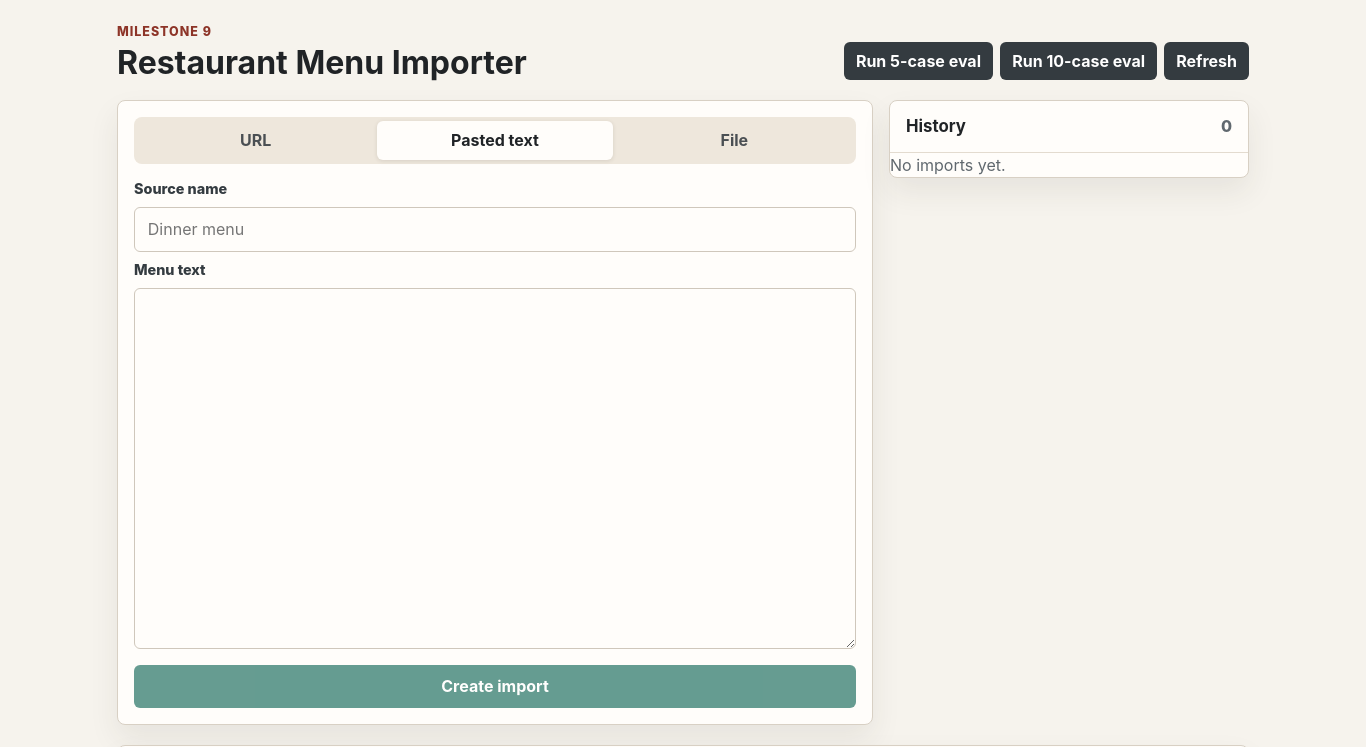
Test: App › creates a URL import
Check: the text "No imports yet." is shown, box [890, 155, 1006, 175]
Click the tab "URL" at (256, 140), box [138, 121, 373, 160]
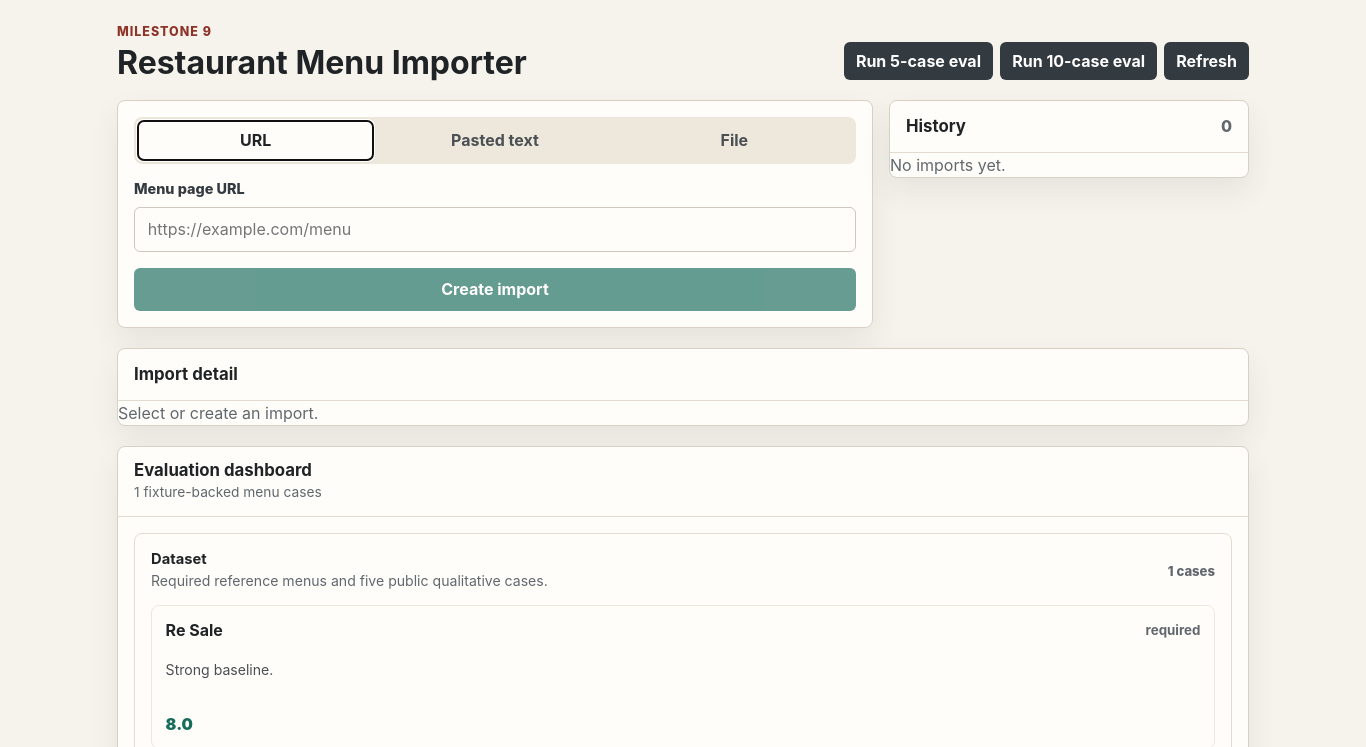
Type "https://restaurant.example/menu" into the field labelled "Menu page URL" at (495, 229), box [134, 207, 856, 252]
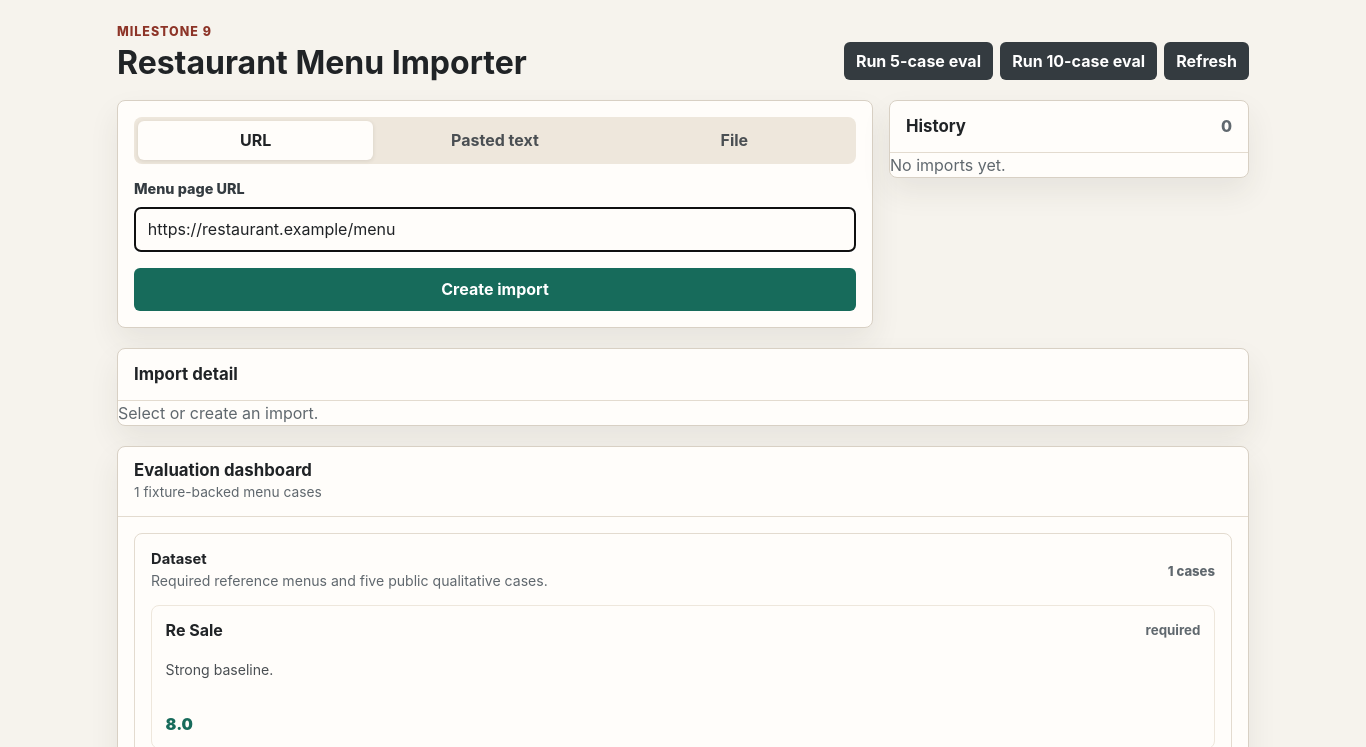
Click the button "Create import" at (495, 289), box [134, 268, 856, 311]
(page scrolled)
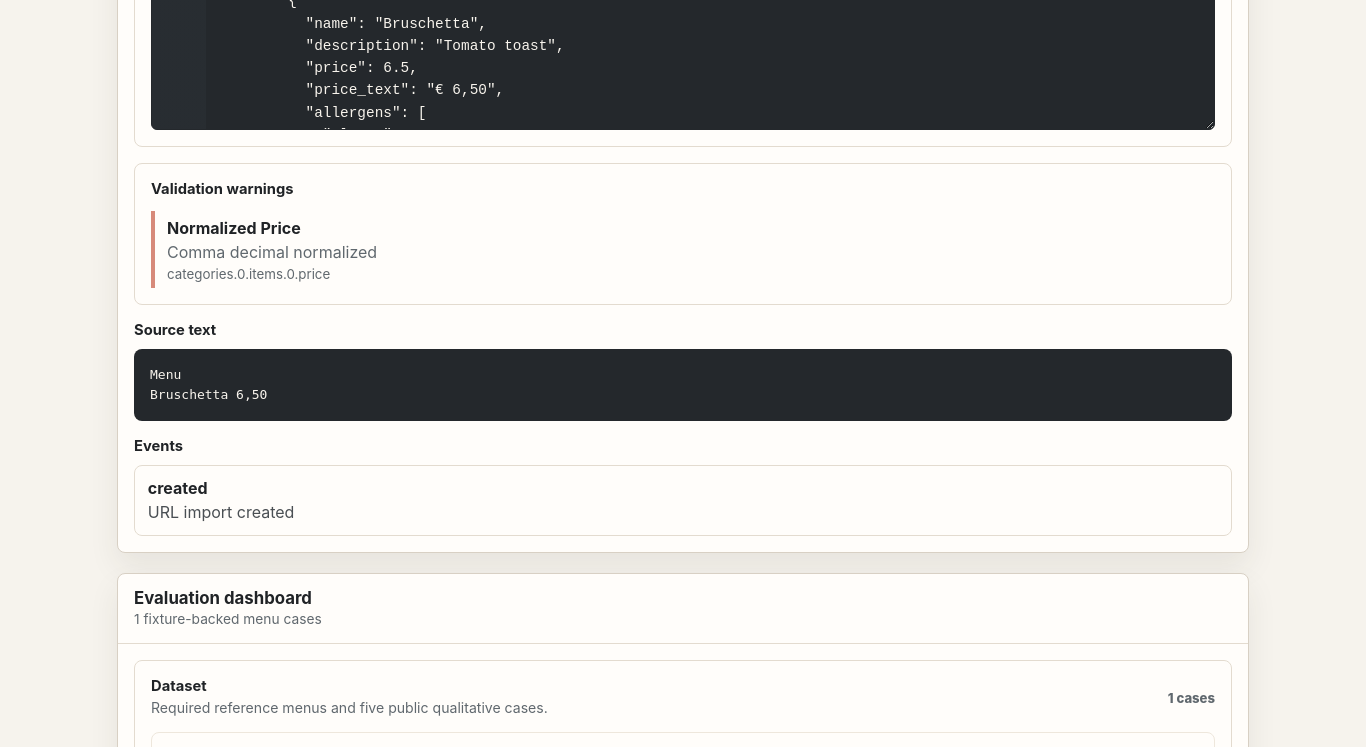
Check: the text "Menu Bruschetta 6,50" is shown, box [134, 349, 1232, 421]
